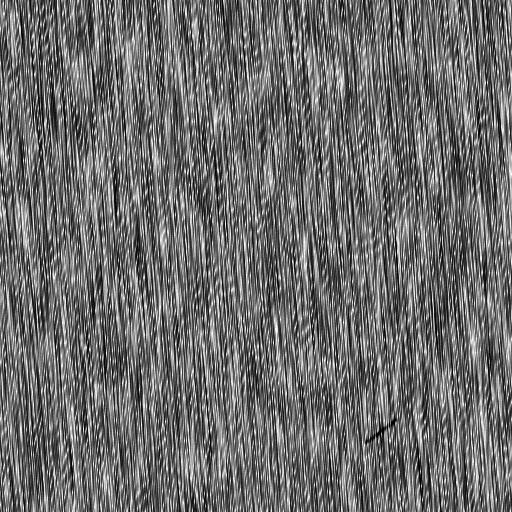DefectTypeC: (366, 417, 397, 445)
